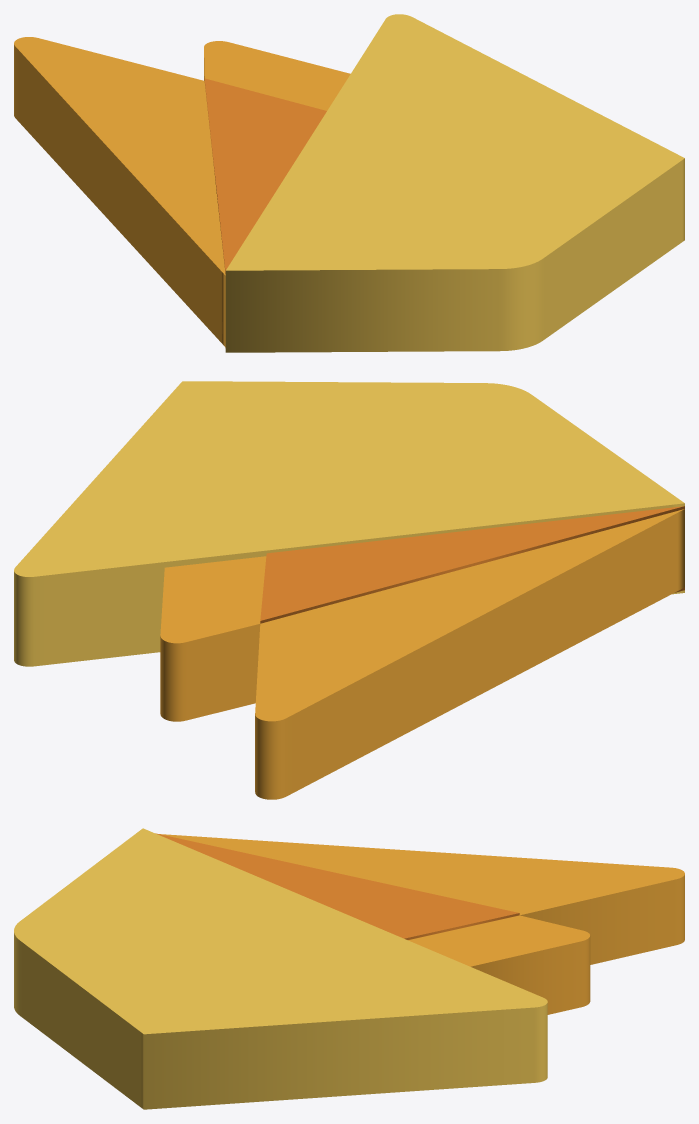
Rendered from firebase.gltf.
3 views of the same model, one above another, from view 1: azimuth 30°, elevation 25°; view 2: azimuth 150°, elevation 25°; view 3: azimuth 270°, elevation 25° (orthographic). The views are drawn at different scales.
Parts seen in each view (by area): view 1: Curve.039, Curve.041, Curve.040, Curve.036; view 2: Curve.039, Curve.041, Curve.040, Curve.036; view 3: Curve.039, Curve.041, Curve.036, Curve.040.
Boxes of the visible parts, x1,y1,x2,y2 form: Curve.039: (225, 14, 684, 352); Curve.041: (14, 37, 225, 346); Curve.040: (204, 78, 326, 347); Curve.036: (204, 41, 350, 110); Curve.039: (14, 381, 684, 666); Curve.041: (255, 509, 684, 799); Curve.040: (260, 506, 684, 623); Curve.036: (160, 556, 266, 721); Curve.039: (14, 828, 547, 1109); Curve.041: (159, 834, 684, 964); Curve.036: (408, 915, 590, 1014); Curve.040: (155, 833, 519, 939).
Size of the model in its own units: 0.469 by 0.08 by 0.6453.
